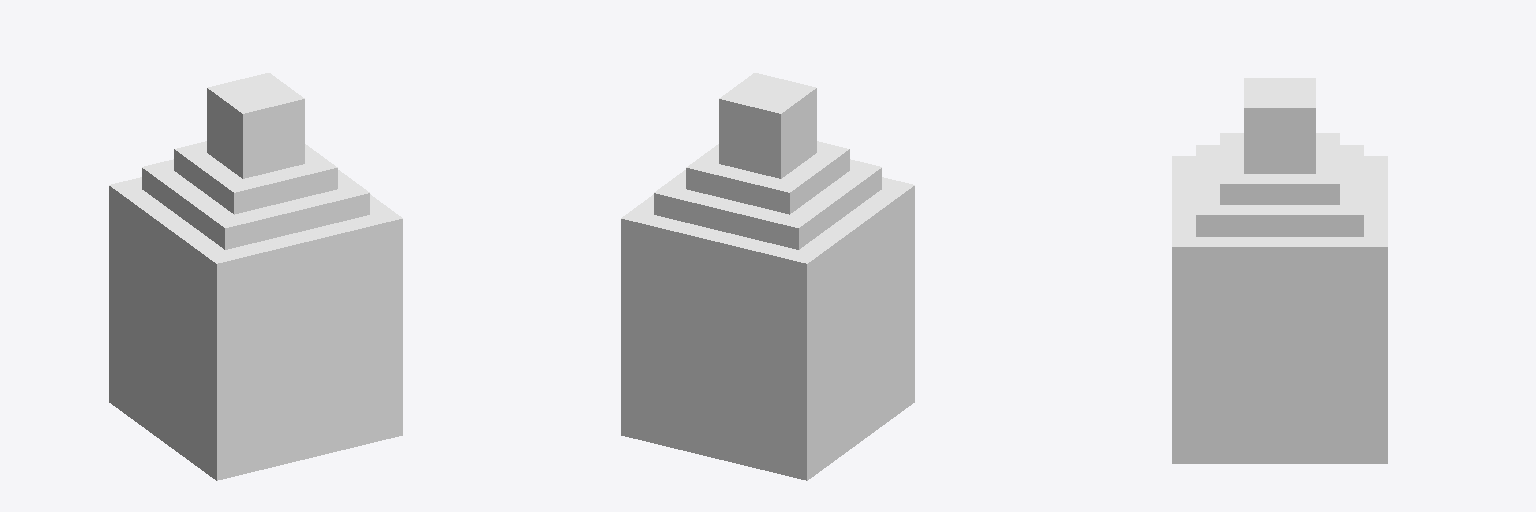
The model's file is fertilizer_box.obj.
3 renders of one model, left to right at view 1: azimuth 30°, elevation 25°; view 2: azimuth 150°, elevation 25°; view 3: azimuth 270°, elevation 25°, orthographic.
Parts seen in each view (by area): view 1: object 1; view 2: object 1; view 3: object 1.
Boxes of the visible parts, x1=… form: object 1: x1=109, y1=73, x2=402, y2=480; object 1: x1=621, y1=73, x2=914, y2=480; object 1: x1=1172, y1=78, x2=1387, y2=463.
Bounding box in the file's own units: 0.9 × 1.5 × 0.9.